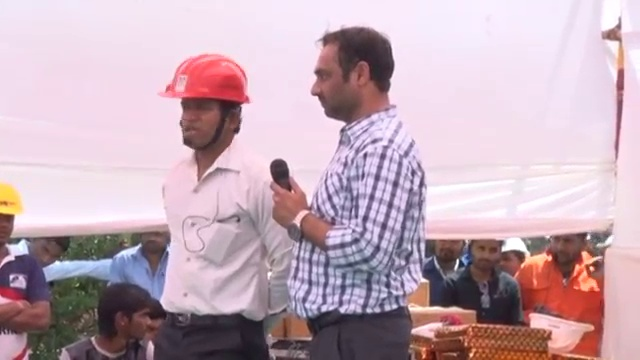helmet: (157, 47, 254, 109), (528, 312, 597, 354), (0, 178, 28, 215), (501, 242, 530, 262)
helmet_off: (307, 27, 399, 124), (94, 285, 151, 350), (25, 236, 71, 272), (552, 230, 591, 265), (471, 237, 502, 278), (140, 232, 170, 263), (432, 238, 464, 264)
helmet_on: (154, 47, 256, 176), (0, 178, 27, 251), (503, 241, 530, 278)
person: (274, 22, 446, 360), (154, 47, 290, 360), (0, 178, 53, 360), (526, 235, 605, 354), (58, 285, 154, 360), (438, 236, 520, 322), (110, 230, 171, 300), (474, 245, 535, 309), (420, 239, 468, 308)
